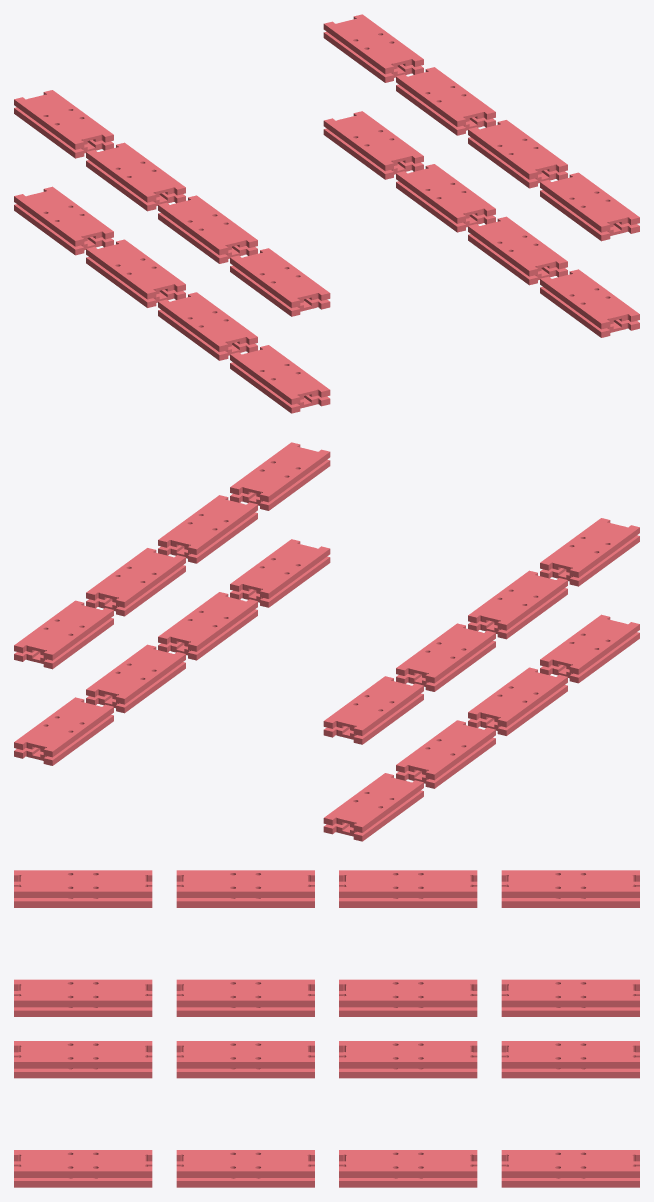
The model's file is BATTERY CRATE STACK V2__BATTERY CRATE L2__BATTERY MODULE V2 CLAMPS__SPINE ASM__SPINE BASE.glb.
3 views of the same model, one above another, from view 1: azimuth 30°, elevation 25°; view 2: azimuth 150°, elevation 25°; view 3: azimuth 270°, elevation 25° (orthographic). The views are drawn at different scales.
Parts seen in each view (by area): view 1: SPINE BASE 7, SPINE BASE 6, SPINE BASE 27, SPINE BASE 30, SPINE BASE 31, SPINE BASE 26, SPINE BASE 2, SPINE BASE 10, SPINE BASE 11, SPINE BASE 18, SPINE BASE 15, SPINE BASE 23 (+20 smaller); view 2: SPINE BASE 27, SPINE BASE 26, SPINE BASE 2, SPINE BASE 7, SPINE BASE 3, SPINE BASE 6, SPINE BASE 14, SPINE BASE 22, SPINE BASE 30, SPINE BASE 11, SPINE BASE 15, SPINE BASE 19 (+20 smaller); view 3: SPINE BASE 6, SPINE BASE 26, SPINE BASE 10, SPINE BASE 22, SPINE BASE 2, SPINE BASE 30, SPINE BASE 3, SPINE BASE 31, SPINE BASE 7, SPINE BASE 14, SPINE BASE 18, SPINE BASE 27 (+20 smaller).
Part boxes in pixels (x1,y1,x2,y2): SPINE BASE 7: [230, 248, 330, 307]; SPINE BASE 6: [230, 345, 330, 404]; SPINE BASE 27: [14, 90, 113, 149]; SPINE BASE 30: [323, 111, 423, 170]; SPINE BASE 31: [323, 14, 423, 74]; SPINE BASE 26: [14, 186, 113, 246]; SPINE BASE 2: [540, 269, 639, 329]; SPINE BASE 10: [158, 292, 257, 352]; SPINE BASE 11: [158, 195, 257, 255]; SPINE BASE 18: [396, 164, 495, 223]; SPINE BASE 15: [468, 120, 567, 179]; SPINE BASE 23: [86, 142, 185, 202]; SPINE BASE 27: [323, 676, 423, 735]; SPINE BASE 26: [323, 773, 423, 832]; SPINE BASE 2: [230, 539, 330, 598]; SPINE BASE 7: [540, 518, 639, 577]; SPINE BASE 3: [230, 442, 330, 502]; SPINE BASE 6: [540, 614, 639, 674]; SPINE BASE 14: [158, 592, 257, 651]; SPINE BASE 22: [396, 720, 495, 780]; SPINE BASE 30: [14, 697, 113, 757]; SPINE BASE 11: [468, 570, 567, 630]; SPINE BASE 15: [158, 495, 257, 554]; SPINE BASE 19: [86, 548, 185, 607]; SPINE BASE 6: [14, 979, 152, 1007]; SPINE BASE 26: [501, 979, 639, 1007]; SPINE BASE 10: [176, 979, 314, 1007]; SPINE BASE 22: [339, 979, 477, 1007]; SPINE BASE 2: [14, 1150, 152, 1177]; SPINE BASE 30: [501, 1150, 639, 1177]; SPINE BASE 3: [14, 1041, 152, 1068]; SPINE BASE 31: [501, 1041, 639, 1068]; SPINE BASE 7: [14, 870, 152, 897]; SPINE BASE 14: [176, 1150, 314, 1177]; SPINE BASE 18: [339, 1150, 477, 1177]; SPINE BASE 27: [501, 870, 639, 897].
Size of the model in its own units: 0.4007 by 0.1222 by 0.5527.
